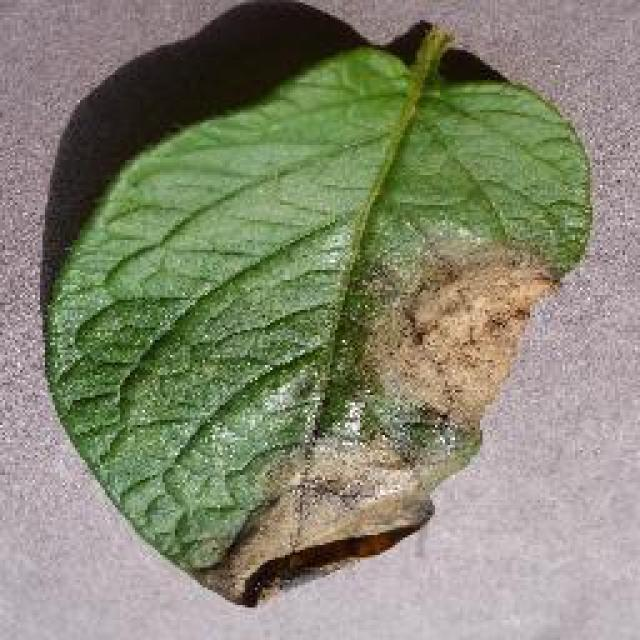Late_blight: (352, 217, 563, 470), (181, 442, 444, 582)
